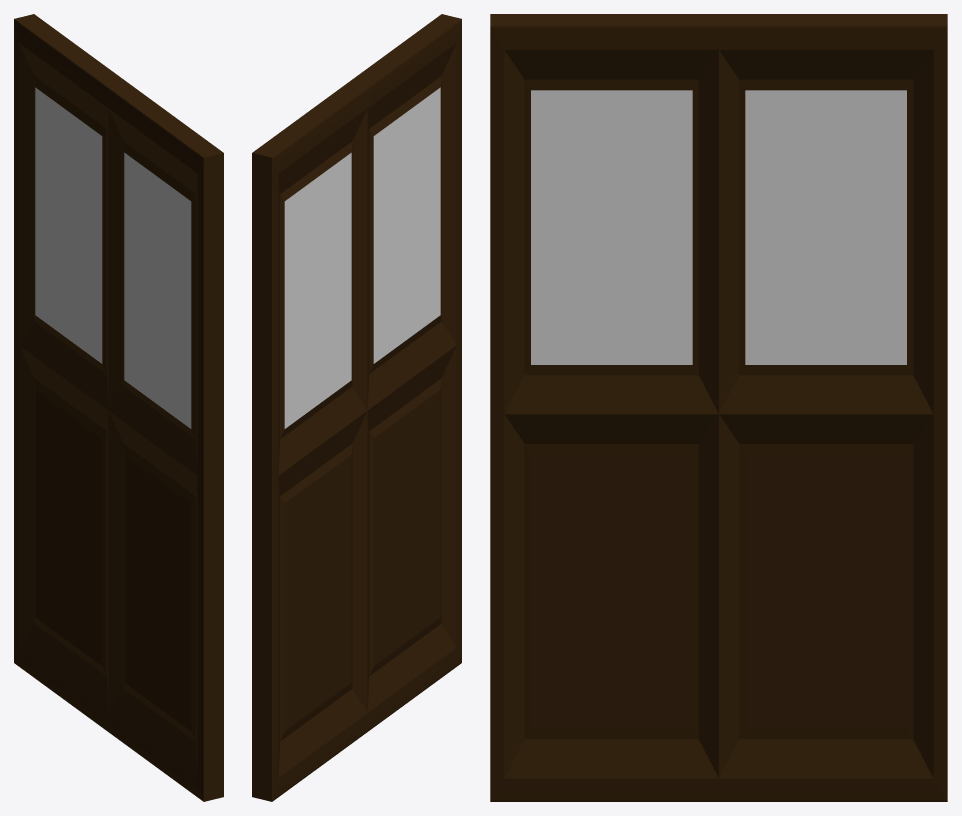
Rendered from door.fbx.
3 views of the same model, side by side, from view 1: azimuth 30°, elevation 25°; view 2: azimuth 150°, elevation 25°; view 3: azimuth 270°, elevation 25° (orthographic). The views are drawn at different scales.
Visible parts, largest first — view 1: Cube; view 2: Cube; view 3: Cube.
Boxes of the visible parts, <box> form: Cube: <box>14,14,223,801</box>; Cube: <box>252,14,461,801</box>; Cube: <box>490,14,947,801</box>.
Size of the model in its own units: 20.24 by 584 by 311.
